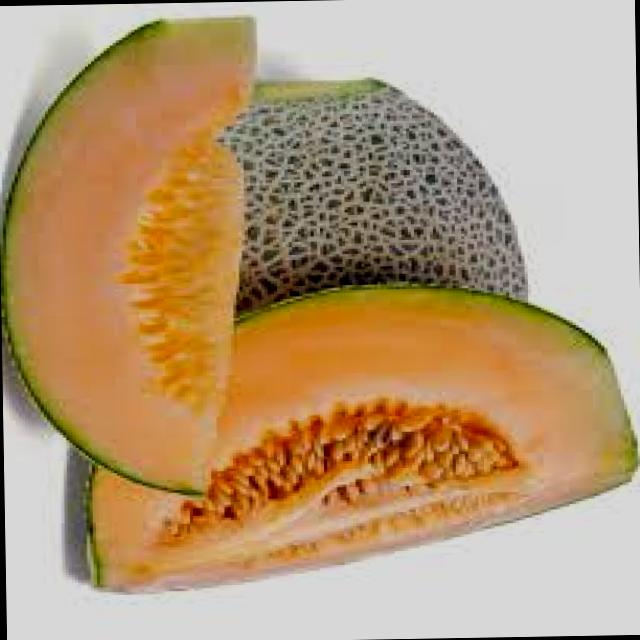cantaloupe: (75, 283, 640, 596), (0, 17, 264, 499)
